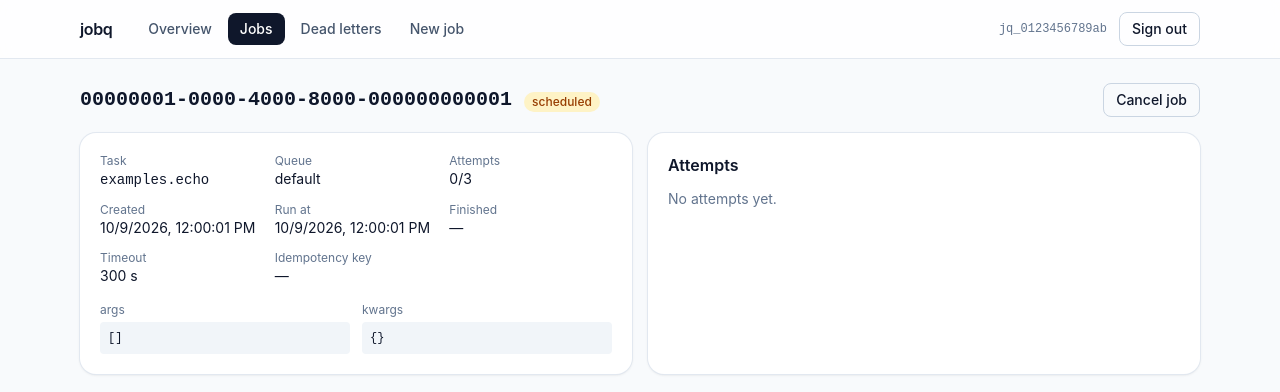
Test: JobPage › cancels a pending job after confirmation
The image size is (1280, 392).
Click the button "Cancel job": (1152, 100) [1103, 83, 1200, 117]
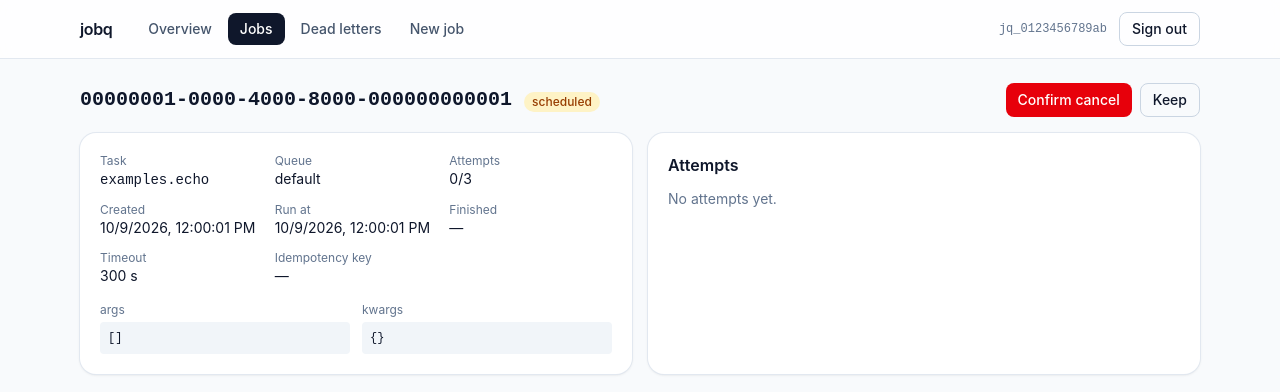
Click the button "Keep": (1170, 100) [1140, 83, 1200, 117]
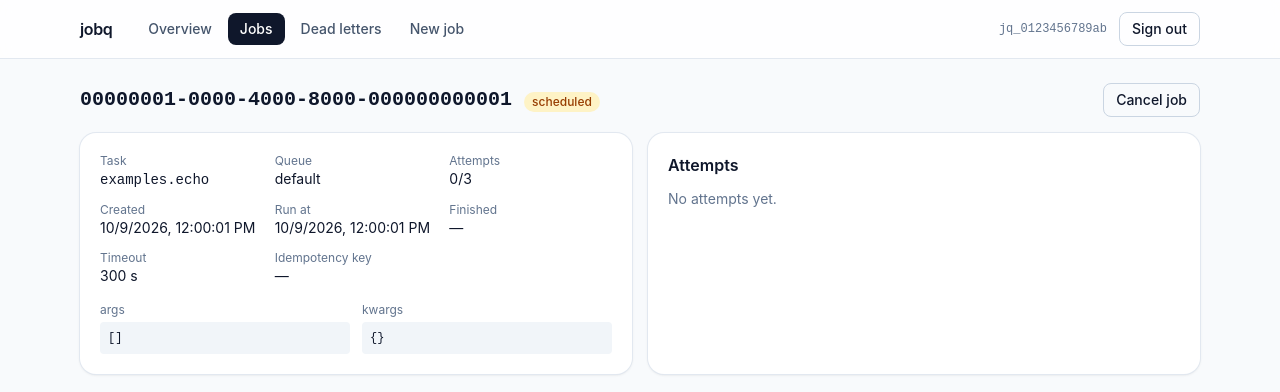
Expected: the text "scheduled" is shown, [524, 92, 600, 112]
Click the button "Cancel job": (1152, 100) [1103, 83, 1200, 117]
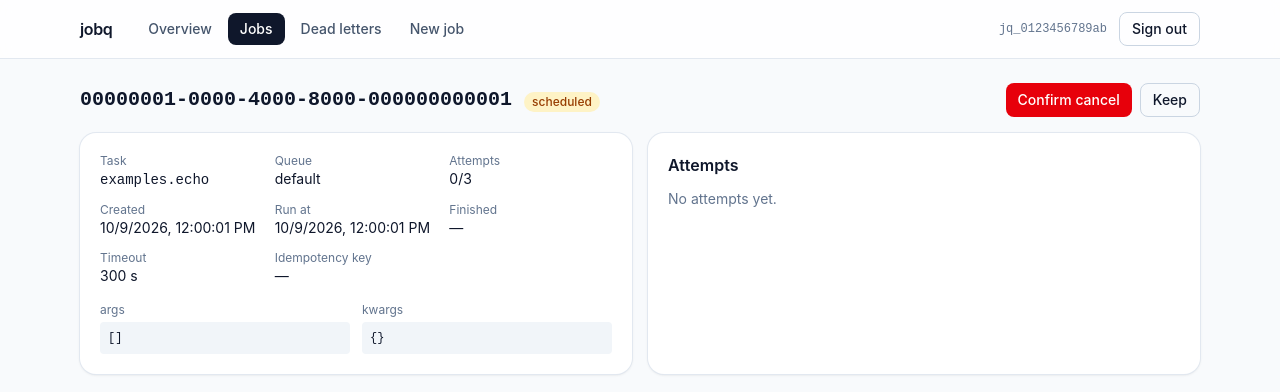
Click the button "Confirm cancel": (1069, 100) [1006, 83, 1132, 117]
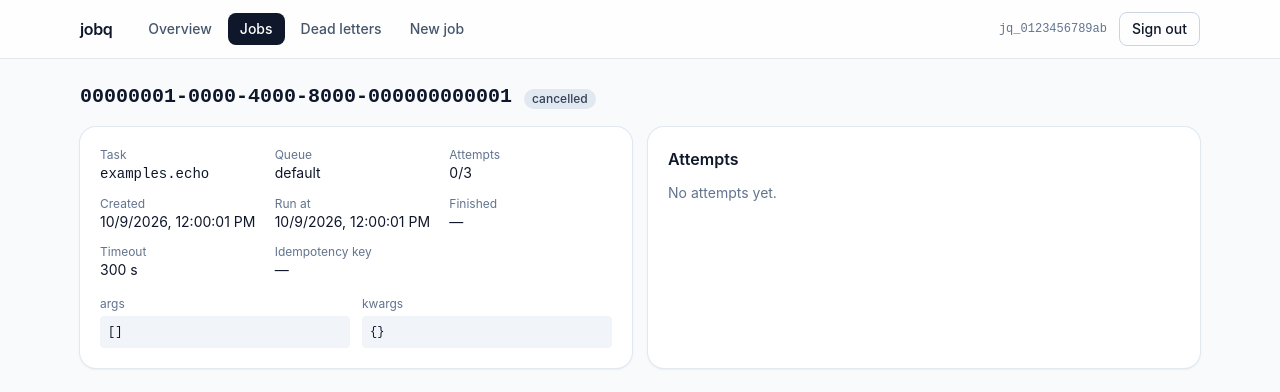
Expected: the element with test id "job-status" reads "cancelled", [532, 91, 588, 106]
Expected: the text "cancelled" is shown, [524, 89, 596, 109]
